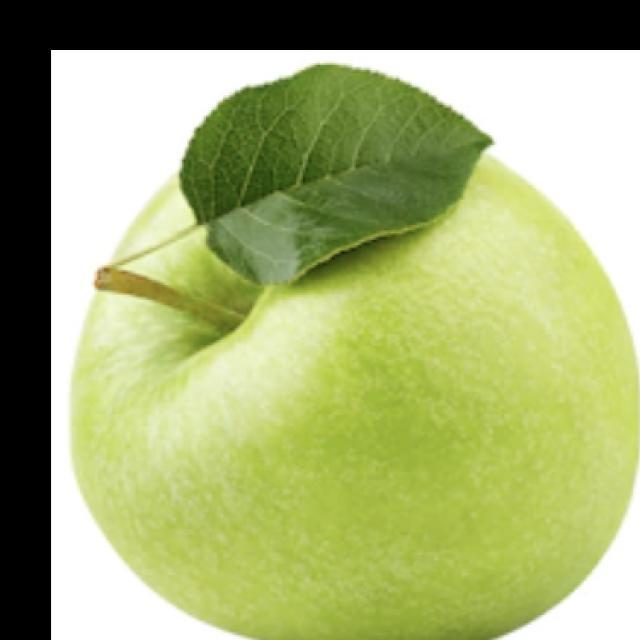Fresh Apple: (68, 62, 640, 640)
